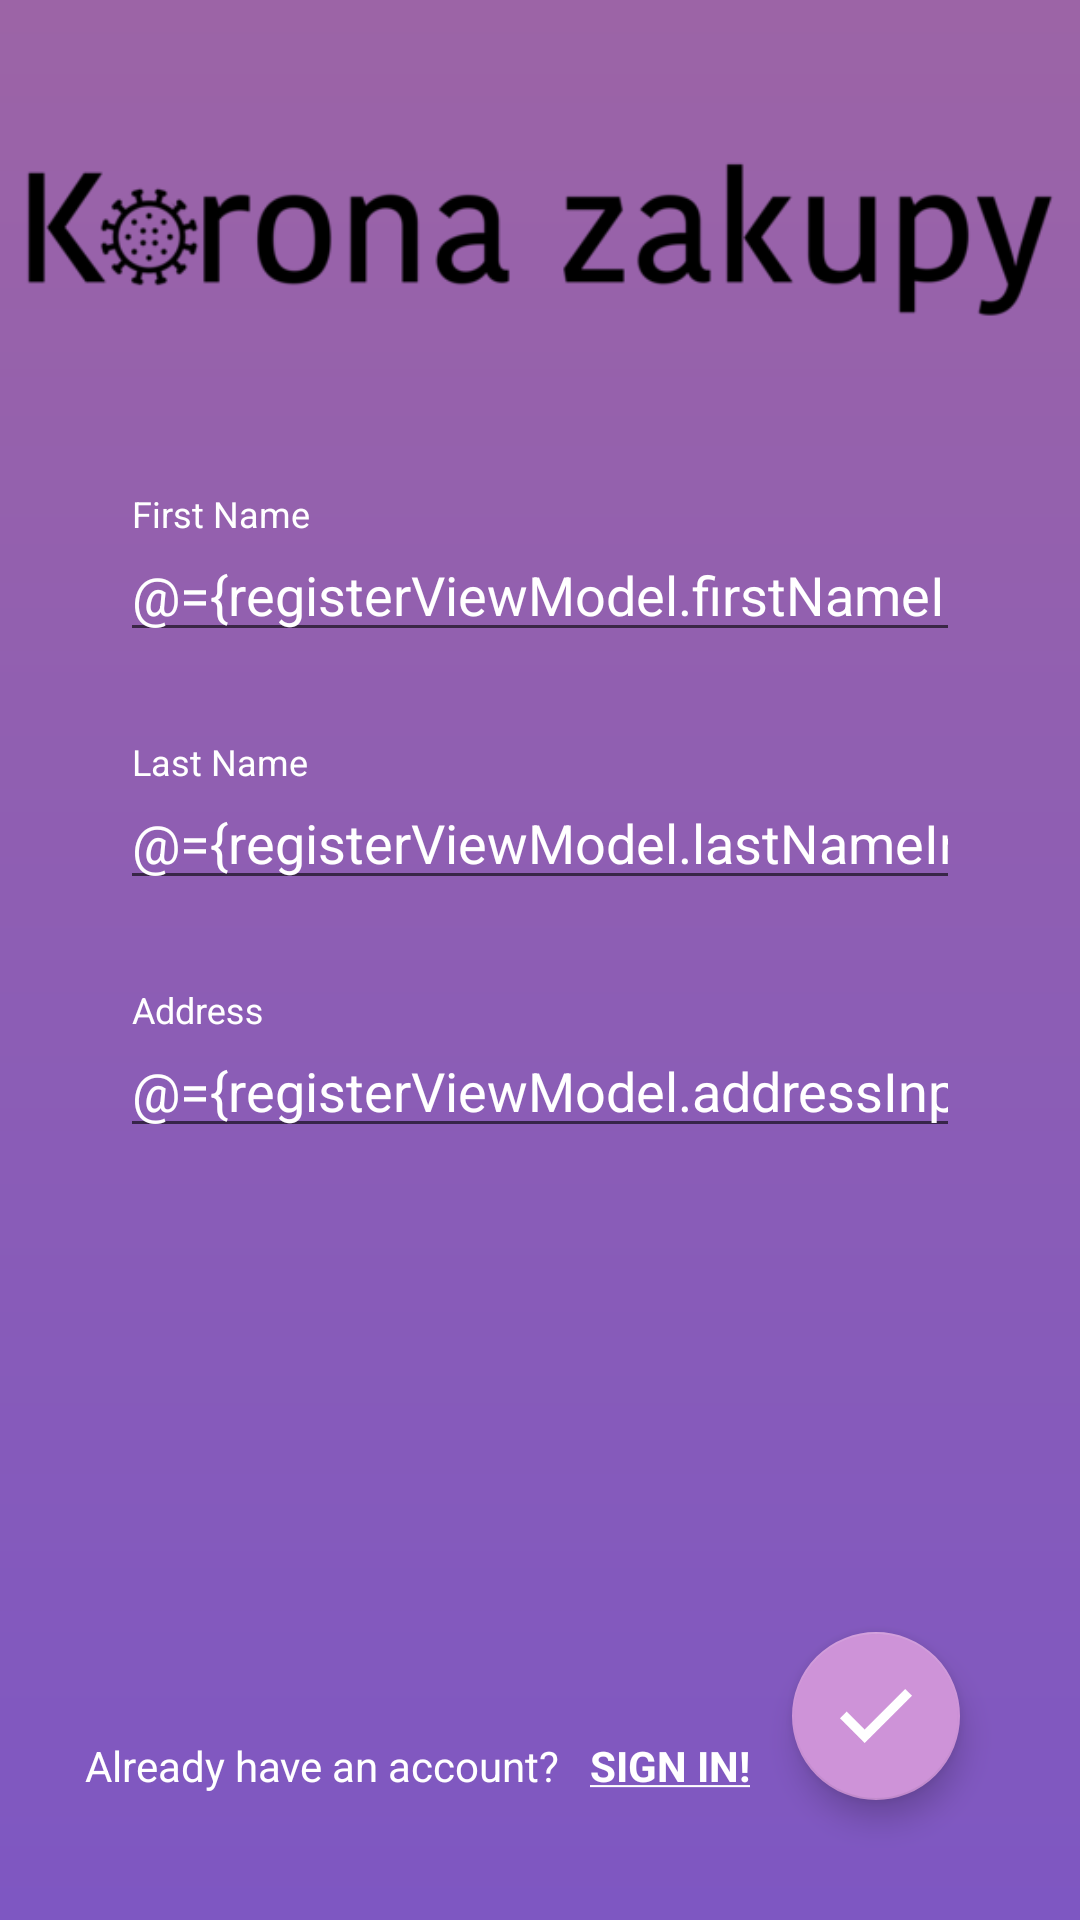

Named icons in this screenshot (1080*1920) and their bounding boxes, (x1,y1,x2,y2):
tick: (792,1632,960,1800)
